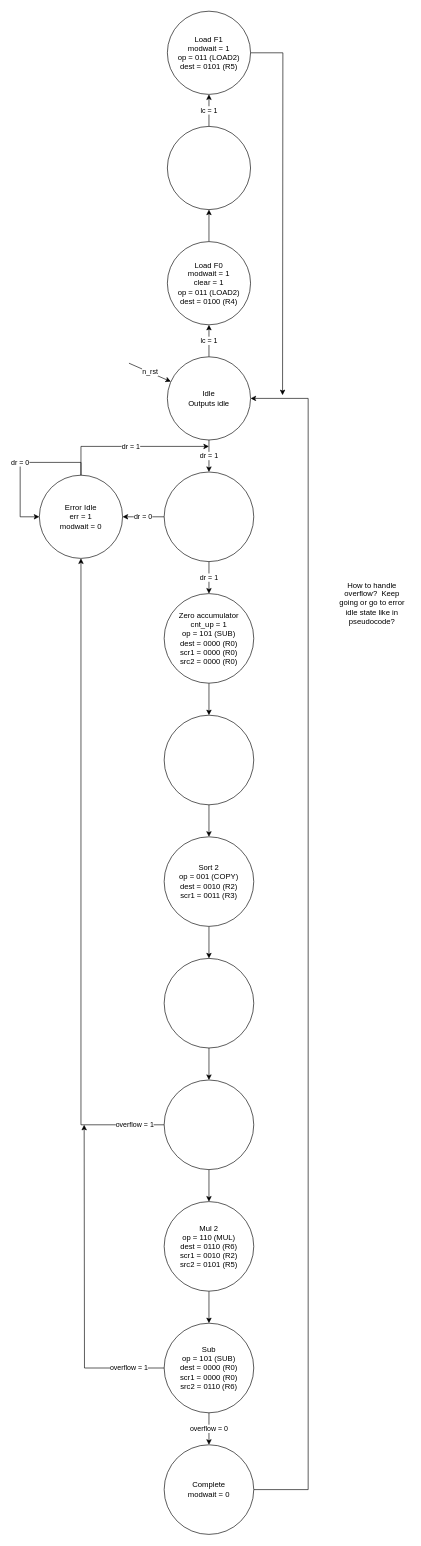
The diagram is 421 pixels wide and 1546 high, and some of its shapes have lost their labels. Here are the shapes that lost their labels. From the top down, the centre of each, then its label:
At point 209,168: "Wait modwait = 0".
At point 209,516: "Store sample modwait = 1 (HOLD) err = 0 op = 010 (LOAD1) dest = 0011 (R3)".
At point 209,760: "Sort 1 op = 001 (COPY) dest = 0001 (R1) scr1 = 0010 (R2)".
At point 209,1003: "Mul 1 op = 110 (MUL) dest = 0110 (R6) scr1 = 0001 (R1) src2 = 0100 (R4)".
At point 209,1124: "Add op = 100 (ADD) dest = 0000 (R0) scr1 = 0000 (R0) src2 = 0110 (R6)".
